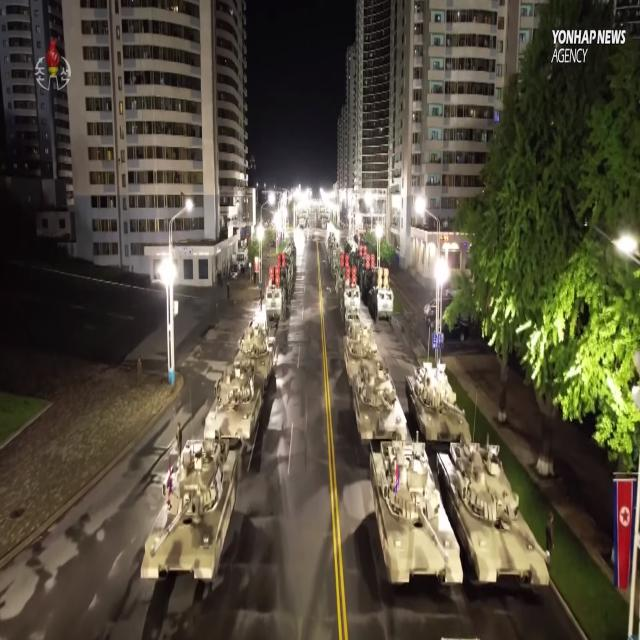north tank: (428, 432, 560, 614), (138, 416, 258, 608), (363, 434, 466, 625), (399, 347, 483, 454), (341, 342, 419, 454), (202, 360, 288, 460), (237, 307, 291, 379), (343, 326, 402, 386)
